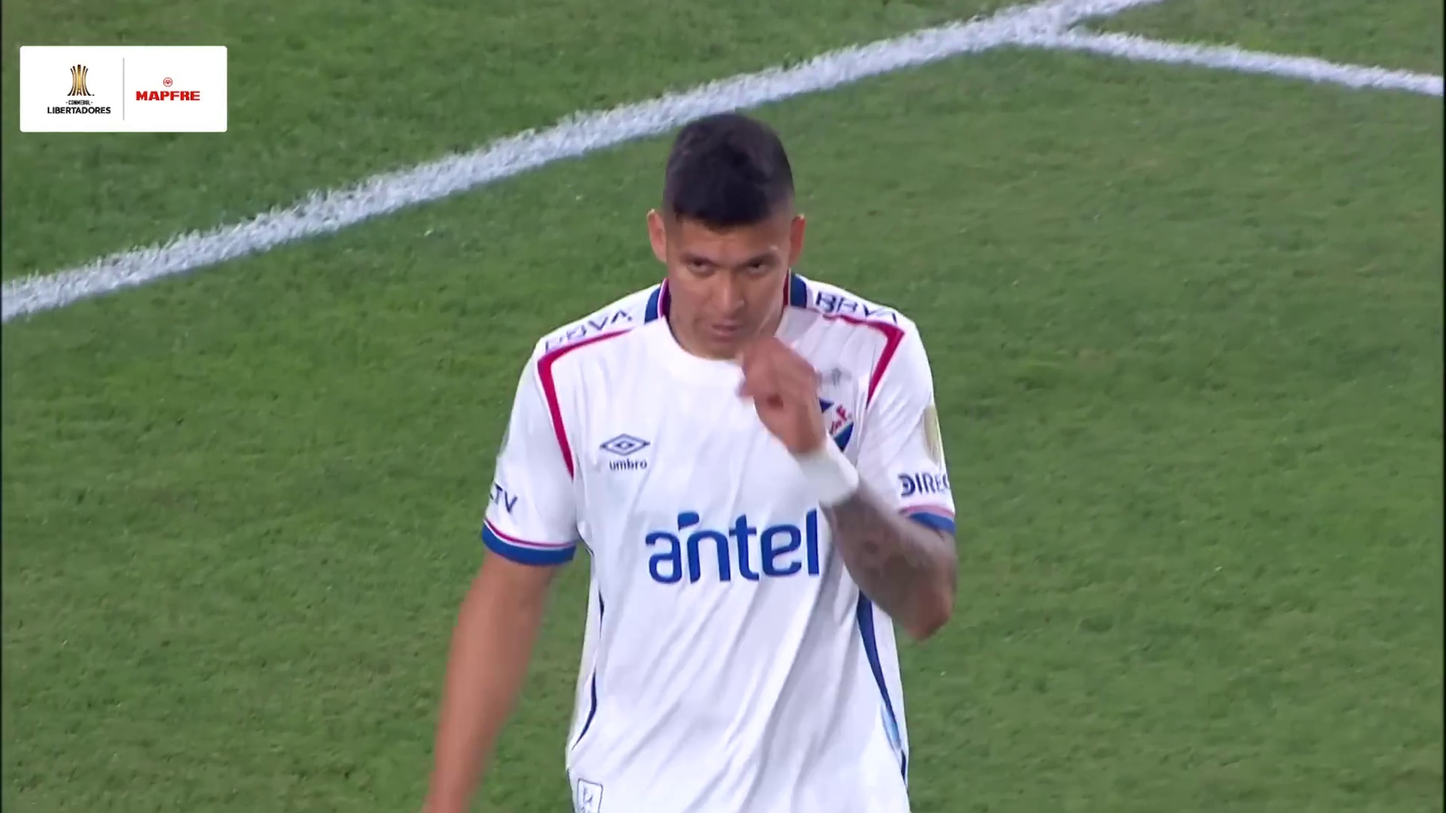player: (413, 106, 987, 810)
